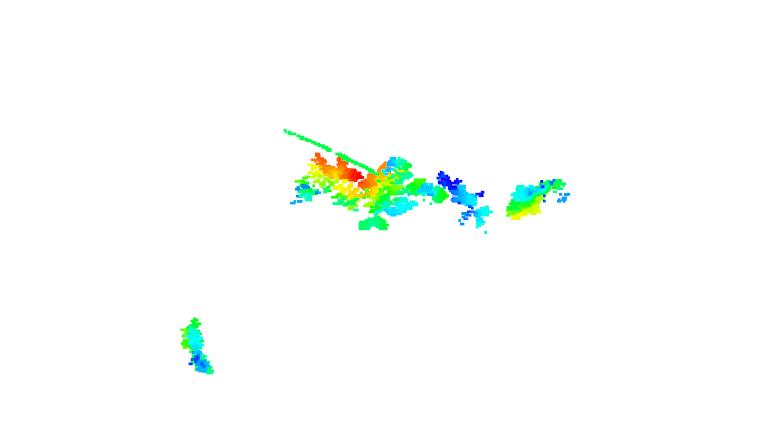chickpea: (290, 144, 367, 211), (366, 149, 423, 239), (424, 172, 493, 234), (511, 175, 577, 230), (180, 315, 223, 380)
